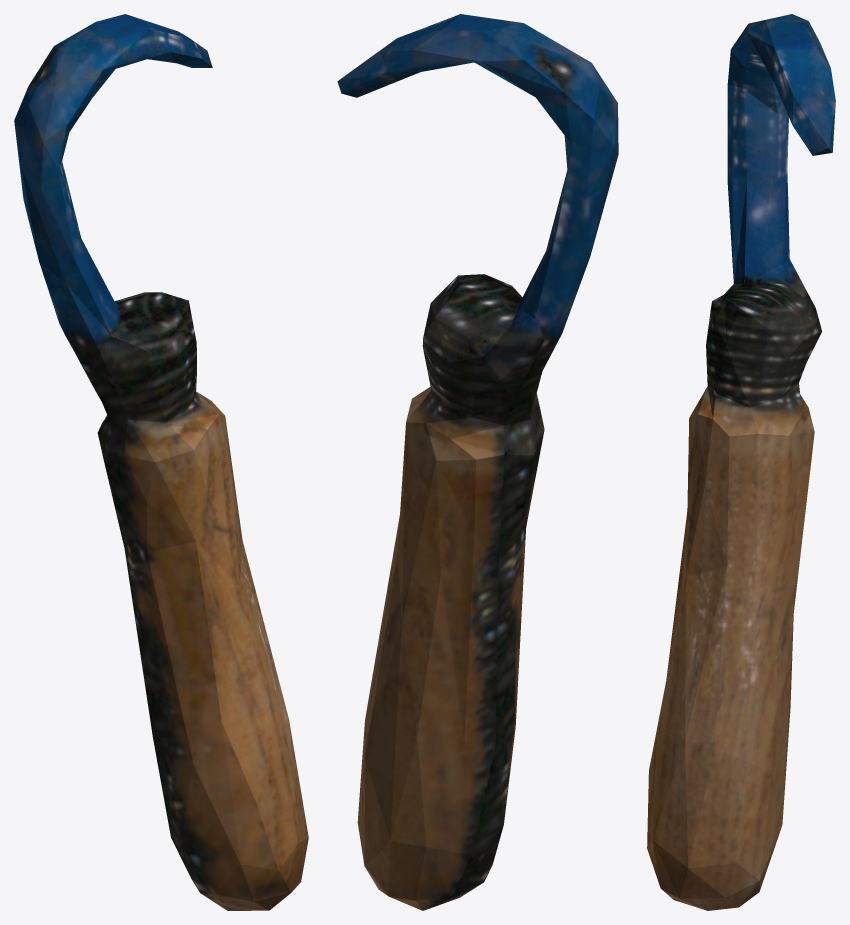
3 renders of one model, left to right at view 1: azimuth 30°, elevation 25°; view 2: azimuth 150°, elevation 25°; view 3: azimuth 270°, elevation 25°, orthographic. The views are drawn at different scales.
Parts seen in each view (by area): view 1: Tueroeffner_0.3k_0.5k; view 2: Tueroeffner_0.3k_0.5k; view 3: Tueroeffner_0.3k_0.5k.
Part boxes in pixels (box(x1,y1,x2,y2)): Tueroeffner_0.3k_0.5k: box(14, 14, 308, 910); Tueroeffner_0.3k_0.5k: box(337, 14, 618, 910); Tueroeffner_0.3k_0.5k: box(647, 14, 835, 910).
Bounding box in the file's own units: 0.0493 × 0.1629 × 0.0335.
Materials: 1 (1 with a texture image).
